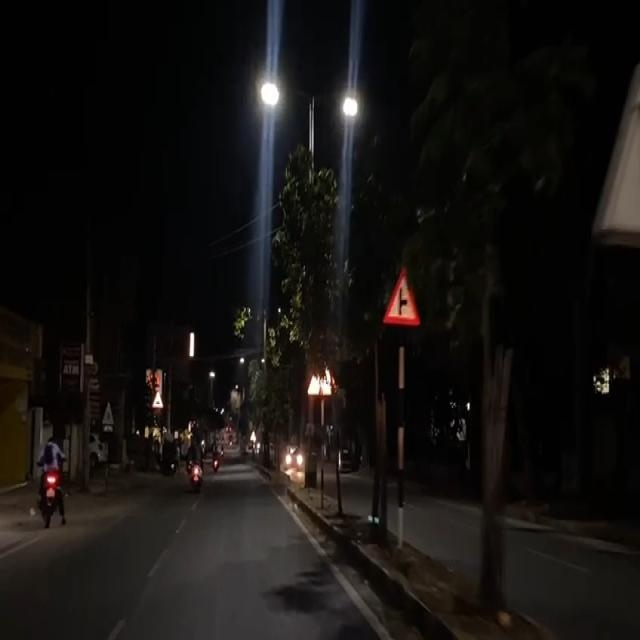bien_nguy_hiem: (379, 261, 423, 334), (151, 390, 165, 410)
